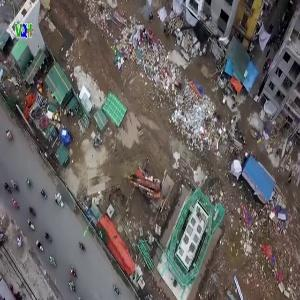drone: (172, 1, 233, 62)
